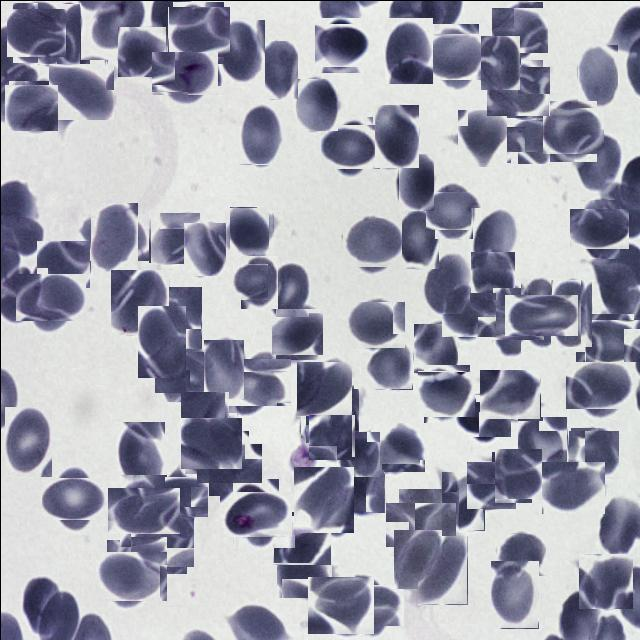red blood cell: (293, 466, 353, 532), (49, 58, 112, 120), (309, 574, 371, 636), (110, 269, 168, 334), (100, 545, 161, 606), (114, 421, 164, 493), (224, 352, 284, 412), (112, 480, 172, 540), (20, 268, 80, 326), (137, 305, 185, 377), (417, 535, 467, 604), (84, 207, 142, 266), (226, 484, 284, 543), (4, 406, 52, 477), (570, 356, 628, 414), (391, 494, 449, 552), (214, 19, 264, 85), (541, 461, 604, 513), (490, 560, 538, 628), (512, 286, 569, 342), (489, 63, 546, 119), (182, 414, 238, 471), (236, 98, 284, 164), (384, 17, 432, 83), (427, 28, 483, 84), (133, 514, 189, 570), (170, 4, 226, 59), (479, 369, 540, 419), (296, 361, 351, 416), (153, 286, 201, 348), (578, 553, 632, 608), (180, 391, 229, 451), (470, 207, 518, 268), (344, 214, 398, 268), (454, 110, 508, 164), (302, 386, 356, 440), (546, 104, 600, 158), (342, 578, 396, 632), (274, 512, 328, 566), (9, 5, 63, 59), (550, 279, 592, 347), (393, 529, 441, 588), (348, 298, 401, 351), (46, 472, 100, 524), (374, 104, 418, 167), (419, 367, 472, 419), (202, 436, 254, 489), (324, 120, 376, 172), (371, 421, 423, 473), (424, 253, 469, 313), (276, 550, 332, 598), (37, 2, 80, 64), (483, 296, 535, 347), (151, 471, 202, 522), (494, 4, 545, 55), (492, 450, 544, 500), (394, 209, 438, 268), (36, 240, 90, 288), (576, 136, 621, 193), (441, 471, 484, 530), (517, 416, 567, 466), (586, 316, 636, 366), (158, 346, 208, 396), (574, 204, 624, 254), (443, 288, 493, 338), (149, 212, 199, 262), (6, 82, 56, 132), (577, 44, 617, 106), (22, 574, 62, 636), (203, 339, 244, 399), (317, 20, 366, 69), (459, 390, 507, 440), (117, 26, 165, 76), (466, 460, 514, 509), (470, 251, 514, 304), (257, 40, 297, 98), (569, 428, 617, 476), (429, 186, 476, 234), (183, 222, 225, 275), (267, 262, 308, 316), (365, 342, 412, 389), (273, 310, 320, 357), (480, 35, 520, 90), (413, 323, 457, 372), (296, 78, 337, 130), (512, 111, 558, 157), (335, 469, 384, 512), (308, 414, 354, 459), (496, 533, 545, 575), (236, 259, 281, 304), (398, 153, 433, 210), (226, 208, 271, 252), (340, 431, 380, 477)
trophozoite: (156, 46, 212, 100)
